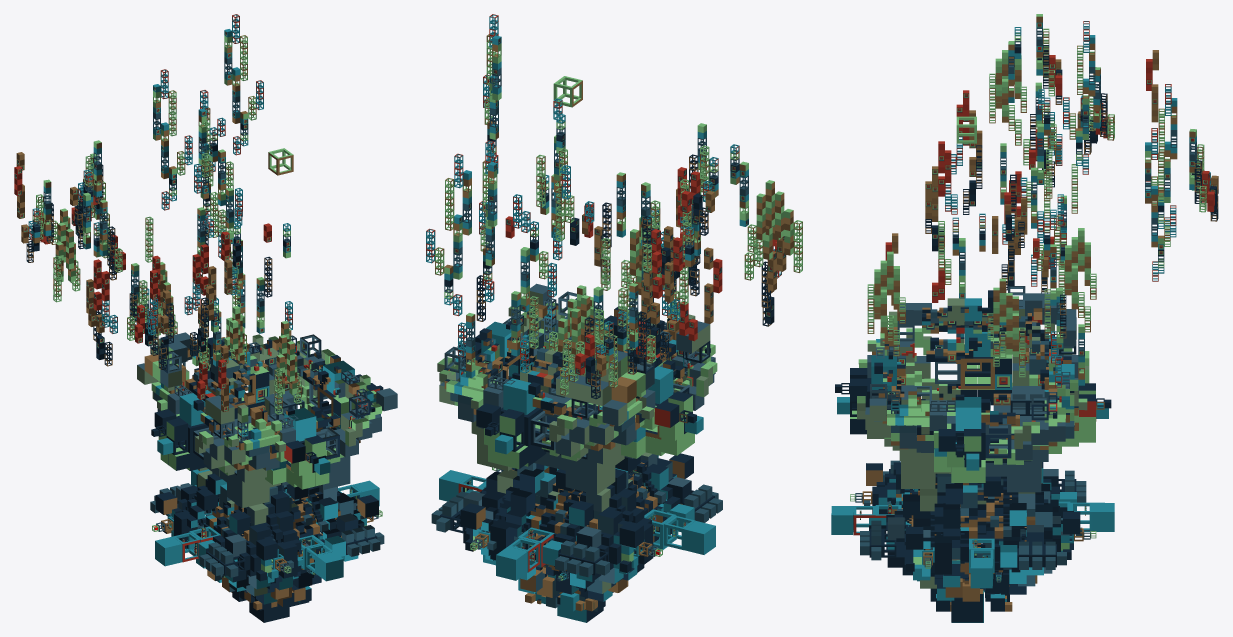
The model's file is Jellyfish_master_geometry.fbx.
The picture shows the model from 3 angles, left to right: view 1: azimuth 30°, elevation 25°; view 2: azimuth 150°, elevation 25°; view 3: azimuth 270°, elevation 25°; orthographic projection. The views are drawn at different scales.
Parts seen in each view (by area): view 1: Mid_tile_001, Cave_repeat_001, coral_03, coral_01, coral_02, Mid_base, Mid_top_001, coral_04, Cave_top, Start; view 2: Mid_tile_001, Cave_repeat_001, coral_03, coral_01, coral_02, Cave_top, Mid_base, Mid_top_001, coral_04, Start, finish; view 3: Mid_tile_001, Cave_repeat_001, coral_01, coral_03, Mid_base, coral_02, Mid_top_001, Cave_top, Start, coral_04.
Boxes of the visible parts, <box> form: Mid_tile_001: <box>137,334,397,475</box>; Cave_repeat_001: <box>150,469,384,583</box>; coral_03: <box>14,69,290,302</box>; coral_01: <box>127,207,301,414</box>; coral_02: <box>21,90,232,366</box>; Mid_base: <box>160,390,350,508</box>; Mid_top_001: <box>144,332,267,424</box>; coral_04: <box>70,14,263,249</box>; Cave_top: <box>196,433,337,534</box>; Start: <box>185,522,340,622</box>; Mid_tile_001: <box>437,283,717,456</box>; Cave_repeat_001: <box>431,453,722,581</box>; coral_03: <box>479,98,802,302</box>; coral_01: <box>458,211,722,395</box>; coral_02: <box>426,153,786,399</box>; Cave_top: <box>486,405,668,526</box>; Mid_base: <box>471,379,694,494</box>; Mid_top_001: <box>520,307,710,405</box>; coral_04: <box>483,14,748,235</box>; Start: <box>483,510,668,622</box>; finish: <box>553,76,582,107</box>; Mid_tile_001: <box>835,317,1111,470</box>; Cave_repeat_001: <box>831,460,1114,588</box>; coral_01: <box>867,171,1096,387</box>; coral_03: <box>979,41,1177,258</box>; Mid_base: <box>850,365,1095,492</box>; coral_02: <box>925,90,1218,281</box>; Mid_top_001: <box>884,286,1076,371</box>; Cave_top: <box>896,428,1050,525</box>; Start: <box>902,509,1052,622</box>; coral_04: <box>1008,14,1095,174</box>.
Size of the model in its own units: 61526 by 103396 by 59952.
